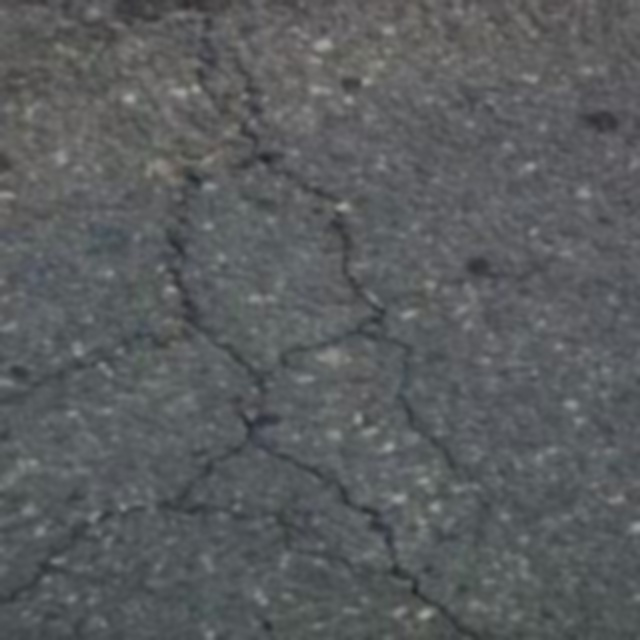SurfaceCrack: (122, 78, 464, 640)
